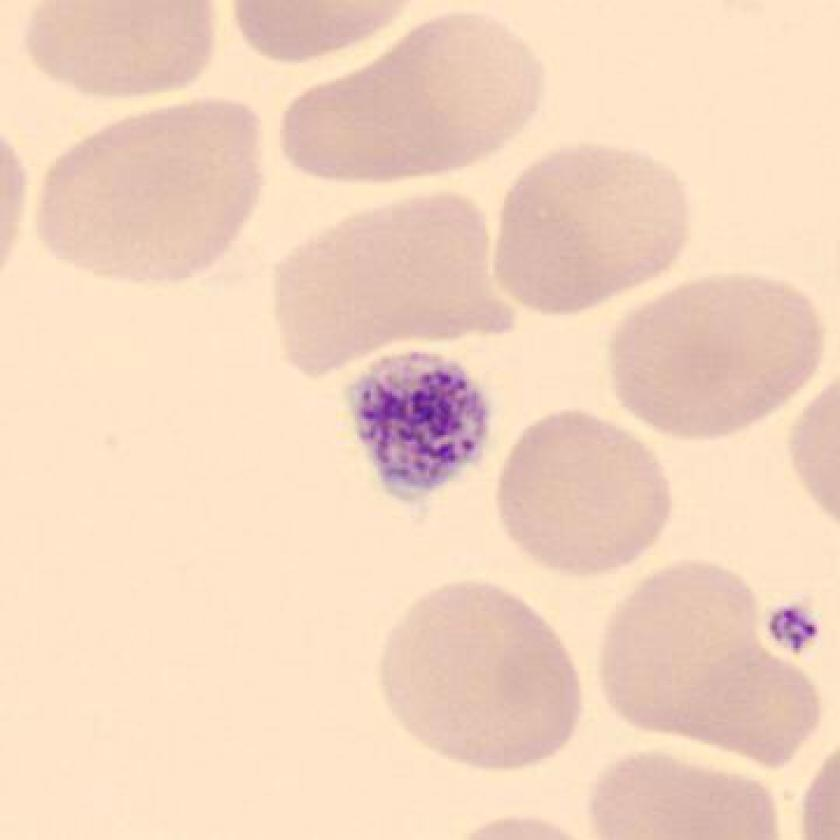platelets: (335, 344, 503, 506), (764, 594, 827, 665)
